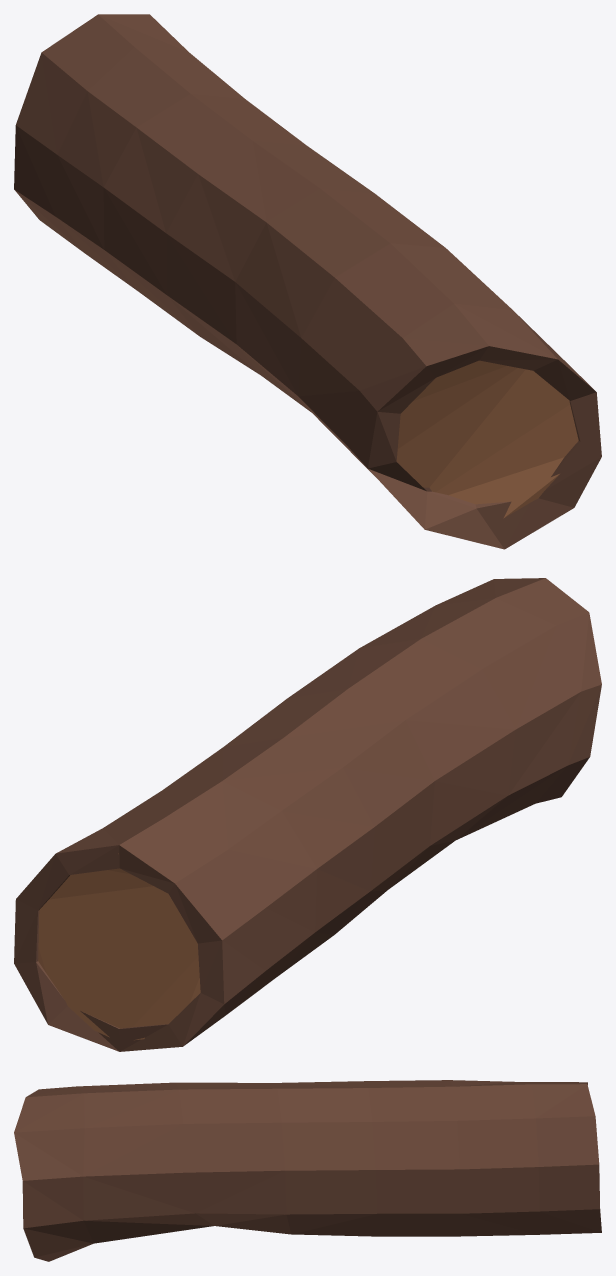
File: OakLog.dae
3 views of the same model, one above another, from view 1: azimuth 30°, elevation 25°; view 2: azimuth 150°, elevation 25°; view 3: azimuth 270°, elevation 25° (orthographic). The views are drawn at different scales.
Parts seen in each view (by area): view 1: Cylinder.001, Cylinder; view 2: Cylinder.001, Cylinder; view 3: Cylinder.001.
Boxes of the visible parts, x1,y1,x2,y2 form: Cylinder.001: [14, 14, 601, 549]; Cylinder: [396, 360, 578, 518]; Cylinder.001: [14, 578, 601, 1051]; Cylinder: [38, 853, 200, 1040]; Cylinder.001: [14, 1080, 601, 1261].
Size of the model in its own units: 0.1862 by 0.6981 by 0.2265.
